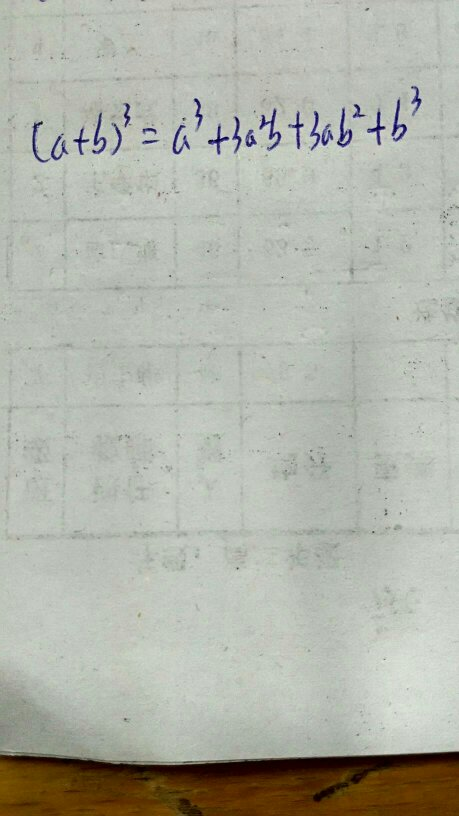cube: (407, 82, 426, 118), (116, 98, 137, 129), (193, 99, 207, 127)
square: (349, 104, 368, 121)
